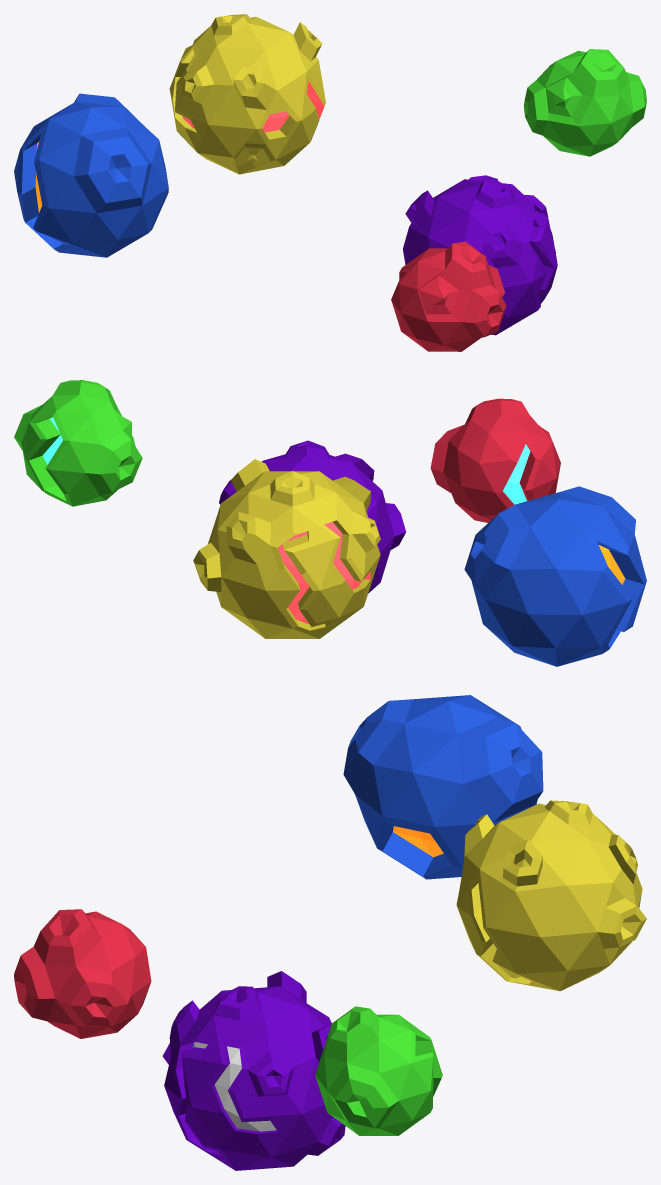
Rendered from planets.fbx.
The picture shows the model from 3 angles, top to bottom: view 1: azimuth 30°, elevation 25°; view 2: azimuth 150°, elevation 25°; view 3: azimuth 270°, elevation 25°; orthographic projection. The views are drawn at different scales.
Visible parts, largest first — view 1: Icosphere.004, Icosphere.005, Icosphere, Icosphere.001, Icosphere.002; view 2: Icosphere.004, Icosphere.005, Icosphere.001, Icosphere.002, Icosphere; view 3: Icosphere.004, Icosphere, Icosphere.005, Icosphere.002, Icosphere.001.
Boxes of the visible parts, bbox=[...] form: Icosphere.004: bbox=[169, 14, 325, 174]; Icosphere.005: bbox=[14, 93, 168, 257]; Icosphere: bbox=[403, 175, 557, 335]; Icosphere.001: bbox=[524, 49, 646, 156]; Icosphere.002: bbox=[391, 241, 506, 351]; Icosphere.004: bbox=[193, 459, 380, 638]; Icosphere.005: bbox=[464, 486, 646, 666]; Icosphere.001: bbox=[14, 380, 142, 506]; Icosphere.002: bbox=[430, 398, 560, 522]; Icosphere: bbox=[219, 440, 405, 593]; Icosphere.004: bbox=[456, 800, 646, 991]; Icosphere: bbox=[162, 971, 345, 1170]; Icosphere.005: bbox=[343, 695, 543, 879]; Icosphere.002: bbox=[14, 909, 151, 1038]; Icosphere.001: bbox=[315, 1006, 442, 1135].
Bounding box in the file's own units: 849 × 344 × 666.
